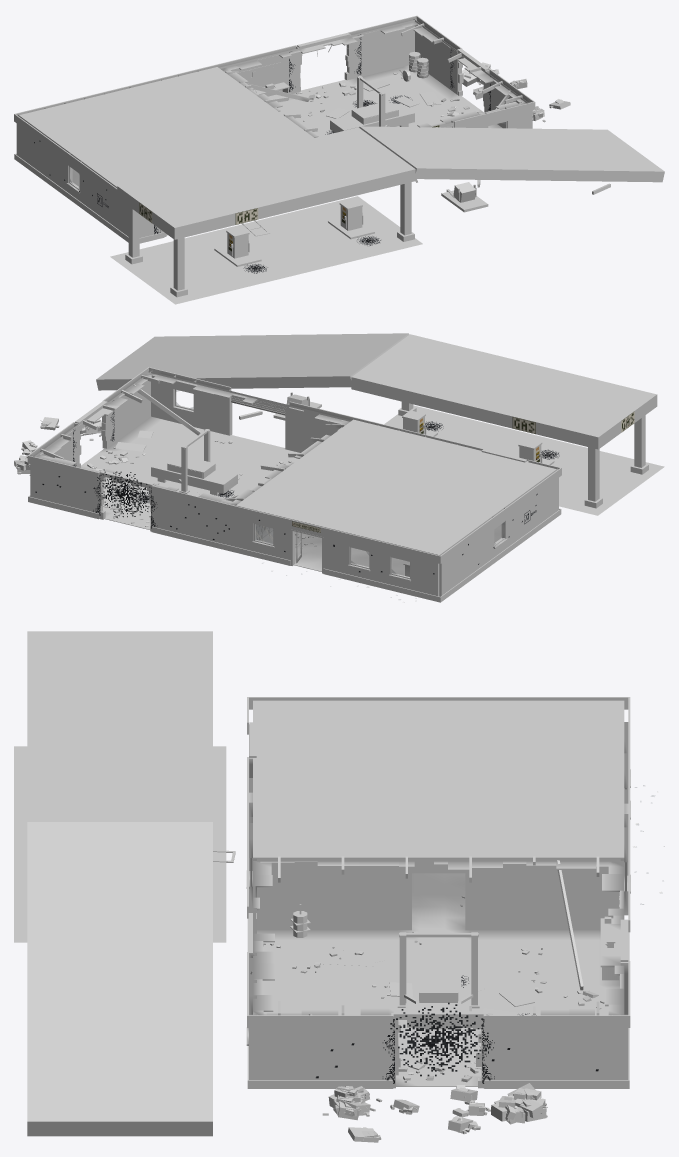
The model's file is gas_station.glb.
The picture shows the model from 3 angles, top to bottom: view 1: azimuth 30°, elevation 25°; view 2: azimuth 150°, elevation 25°; view 3: azimuth 270°, elevation 25°; orthographic projection. The views are drawn at different scales.
Visible parts, largest first — view 1: gas_station; view 2: gas_station; view 3: gas_station.
Part boxes in pixels (x1,y1,x2,y2): gas_station: [14, 15, 664, 304]; gas_station: [14, 333, 664, 602]; gas_station: [14, 631, 664, 1142].
Size of the model in its own units: 35.41 by 5.14 by 24.53.
Materials: 4 (3 with a texture image).
